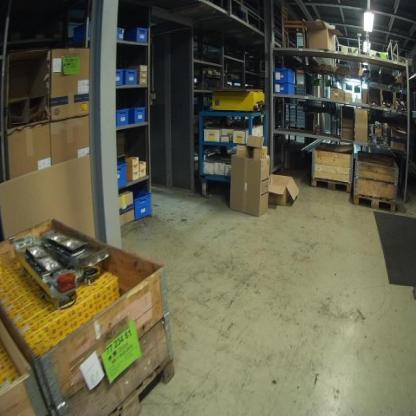pallets: (78, 336, 179, 416), (308, 168, 406, 217)
